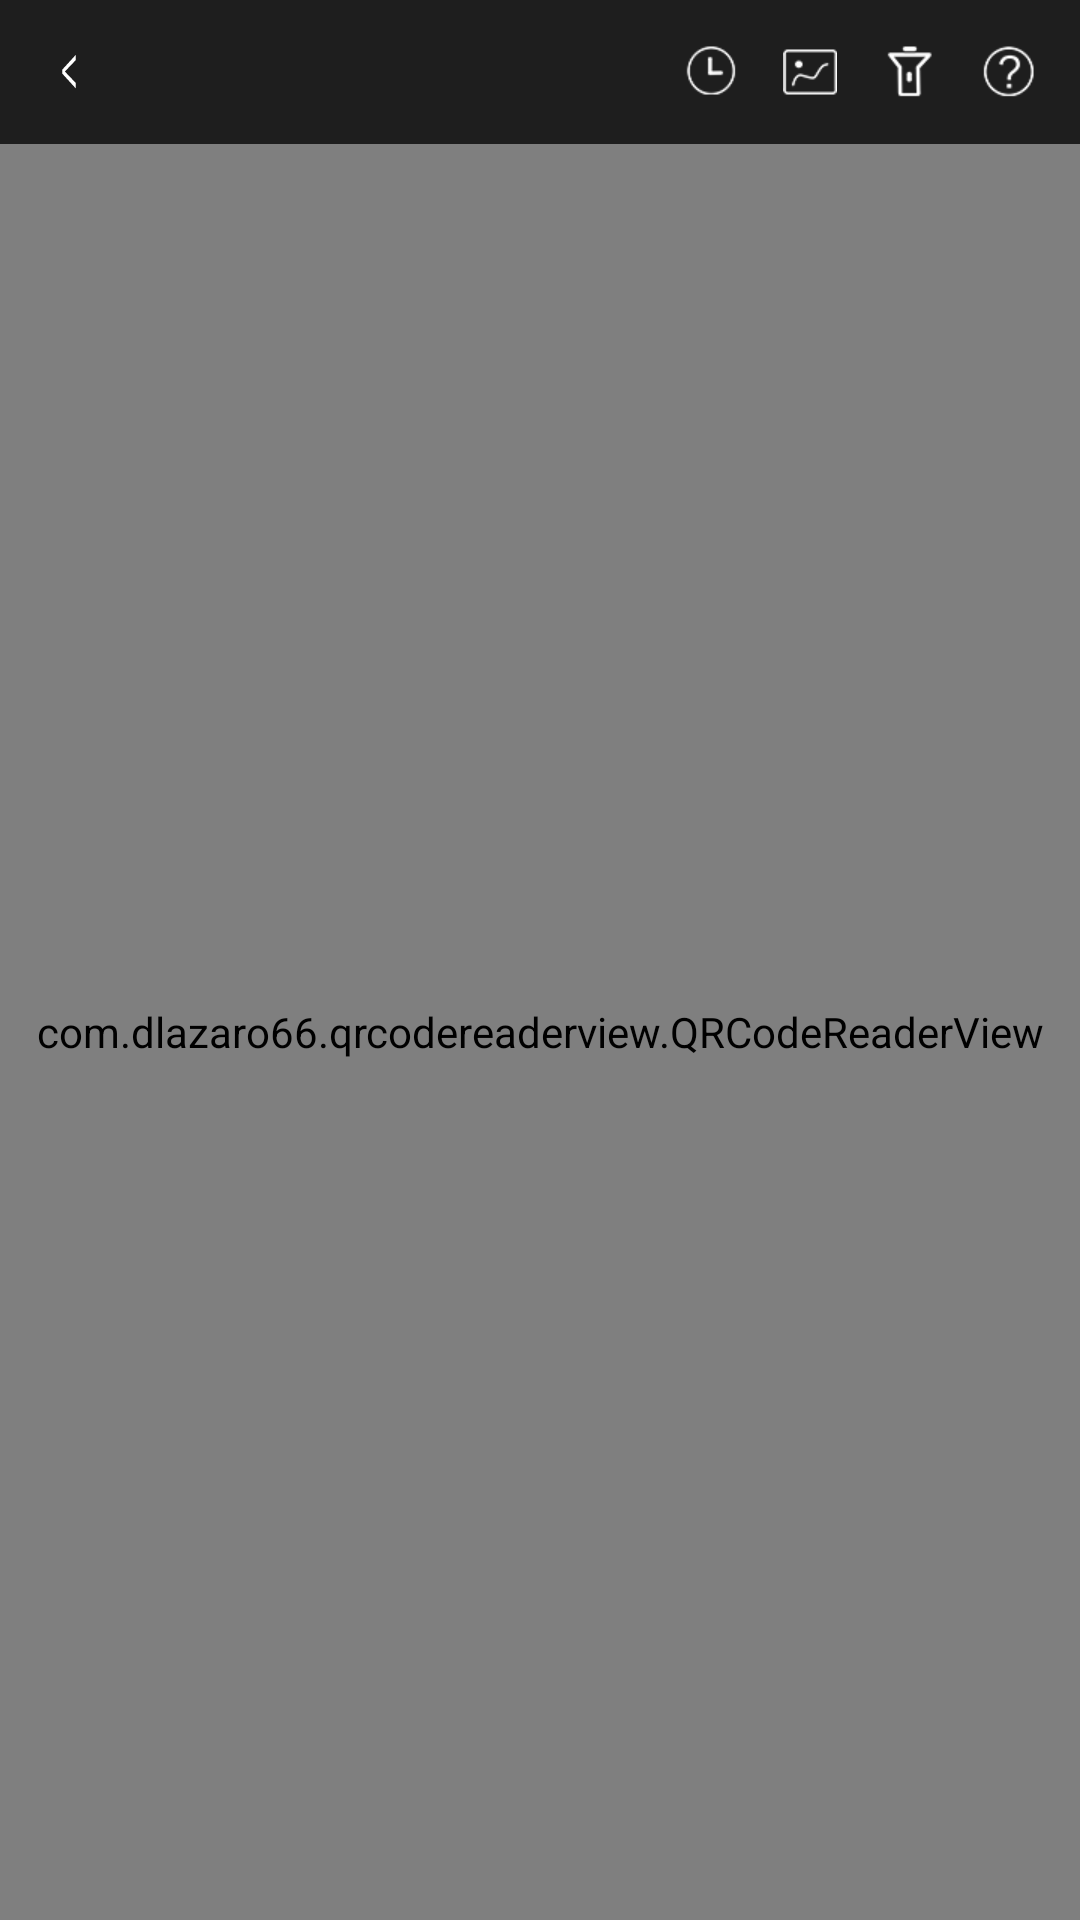

Icon click points for this 1080×1920 phone screenshot, format (x=x, y=y):
qrcode history: (x=711, y=70)
qrcode question: (x=1008, y=71)
